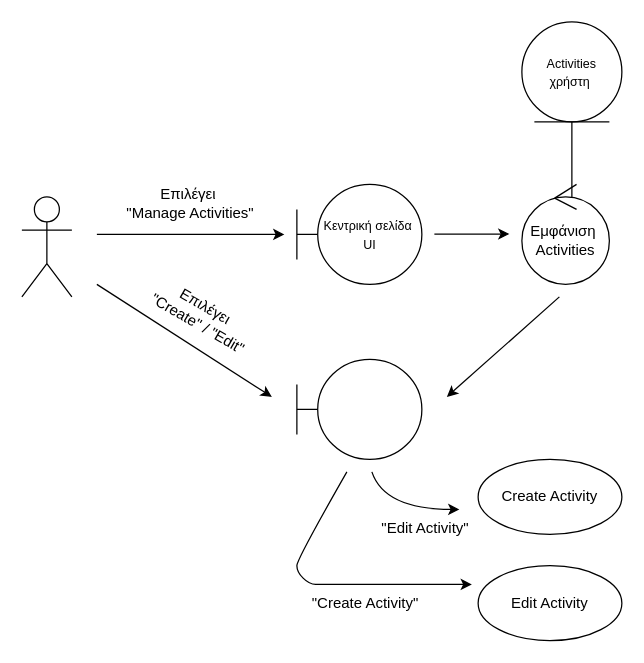
Some shapes in this 644 by 663 pixel diagram are drawn without their labels. The centre of each missing label's shape, as x and y in pixels:
User: the point at 46,246
Σελίδα Activities UI: the point at 359,408
